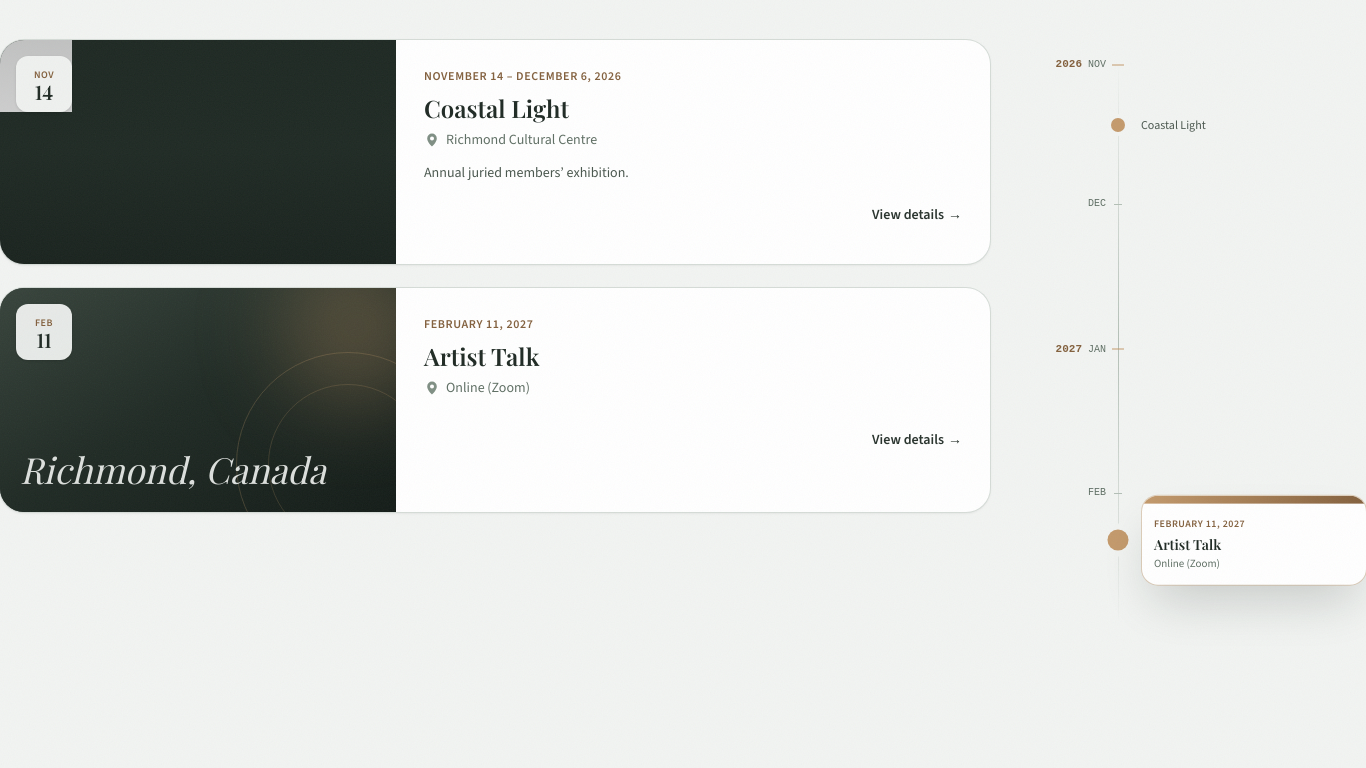
Test: EventsBrowser list › opens a card's details and returns focus to it on Escape
Click the button "Coastal Light" at (495, 152), box [0,40,990,264]
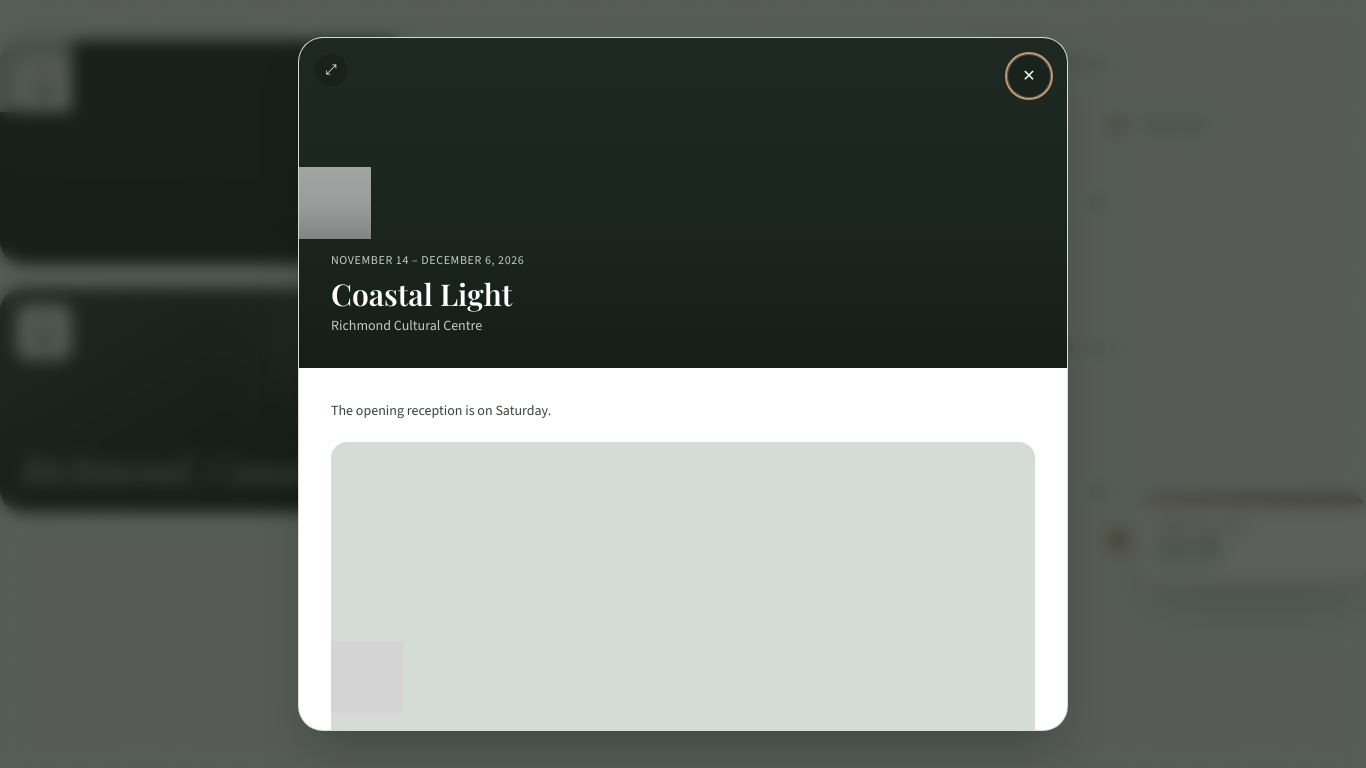
Now the dialog "Coastal Light" shows "The opening reception is on Saturday.", box [331,400,551,420]
Press Escape
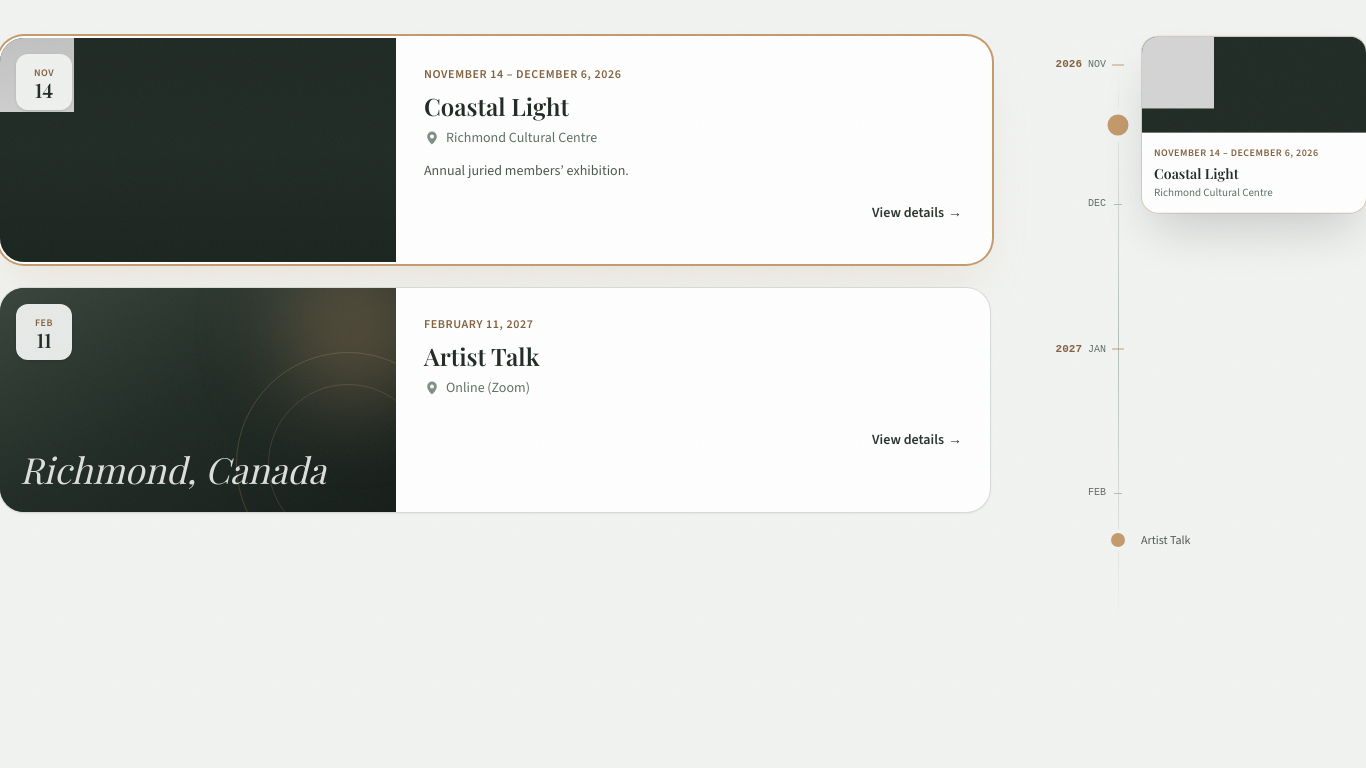
Now the dialog is gone
